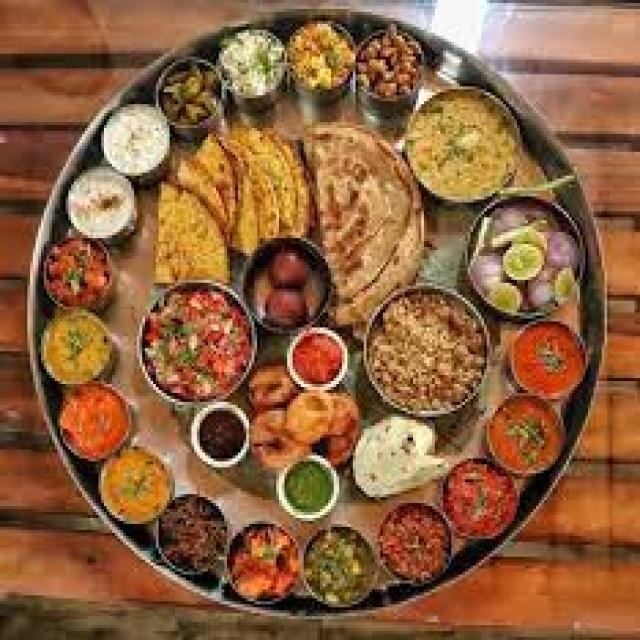dal: (498, 319, 595, 402), (89, 449, 175, 526)
papad: (141, 175, 229, 284), (347, 413, 444, 505)
raita: (94, 97, 174, 177)
rice: (361, 295, 488, 416), (406, 90, 522, 206), (343, 413, 447, 500)
roti: (312, 134, 429, 322), (141, 170, 229, 283), (216, 135, 295, 247)
sweet: (249, 238, 333, 332), (61, 161, 139, 238)
veg-fry: (141, 288, 259, 404), (482, 391, 573, 482), (503, 318, 590, 402), (47, 383, 138, 459)
